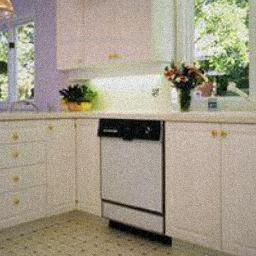Electrodomestico: (98, 118, 166, 239)
Lavaplatos: (173, 83, 256, 122)
